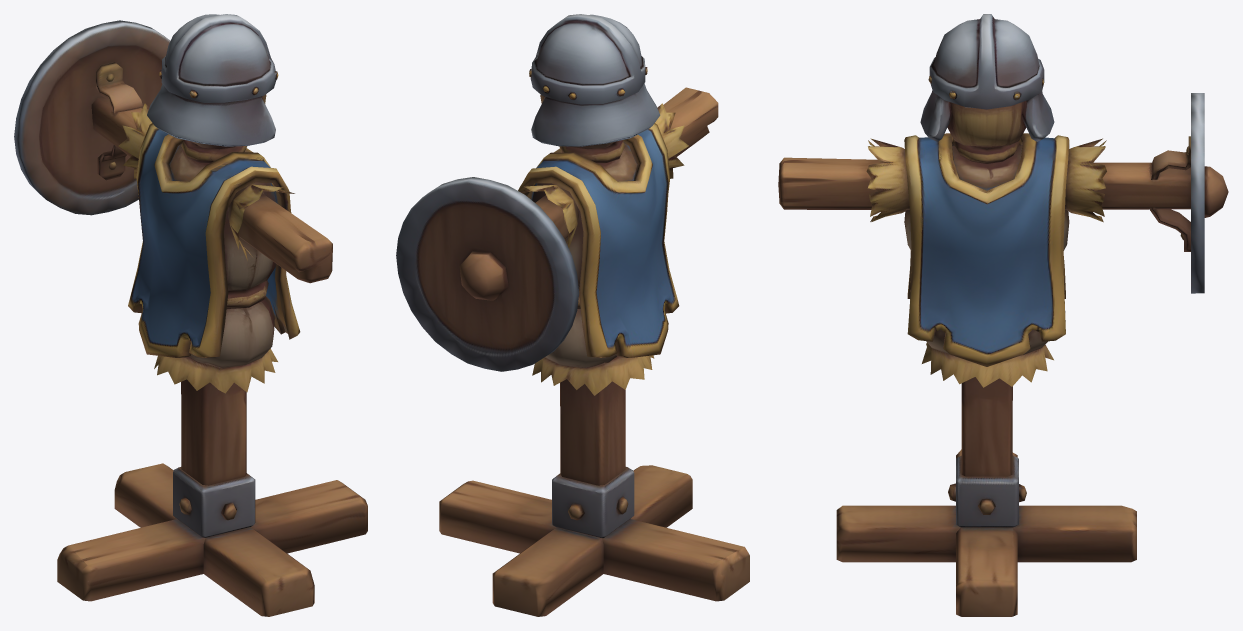
File: addon_dummy_tripo.glb
3 renders of one model, left to right at view 1: azimuth 30°, elevation 25°; view 2: azimuth 150°, elevation 25°; view 3: azimuth 270°, elevation 25°, orthographic.
Parts seen in each view (by area): view 1: tripo_node_bb845572-091f-40e9-bf21-8ffc7eb2b612; view 2: tripo_node_bb845572-091f-40e9-bf21-8ffc7eb2b612; view 3: tripo_node_bb845572-091f-40e9-bf21-8ffc7eb2b612.
Boxes of the visible parts, bbox=[...] form: tripo_node_bb845572-091f-40e9-bf21-8ffc7eb2b612: bbox=[14, 14, 367, 616]; tripo_node_bb845572-091f-40e9-bf21-8ffc7eb2b612: bbox=[396, 14, 749, 616]; tripo_node_bb845572-091f-40e9-bf21-8ffc7eb2b612: bbox=[778, 14, 1228, 616].
Size of the model in its own units: 0.5527 by 0.998 by 0.7676.
Materials: 1 (1 with a texture image).
